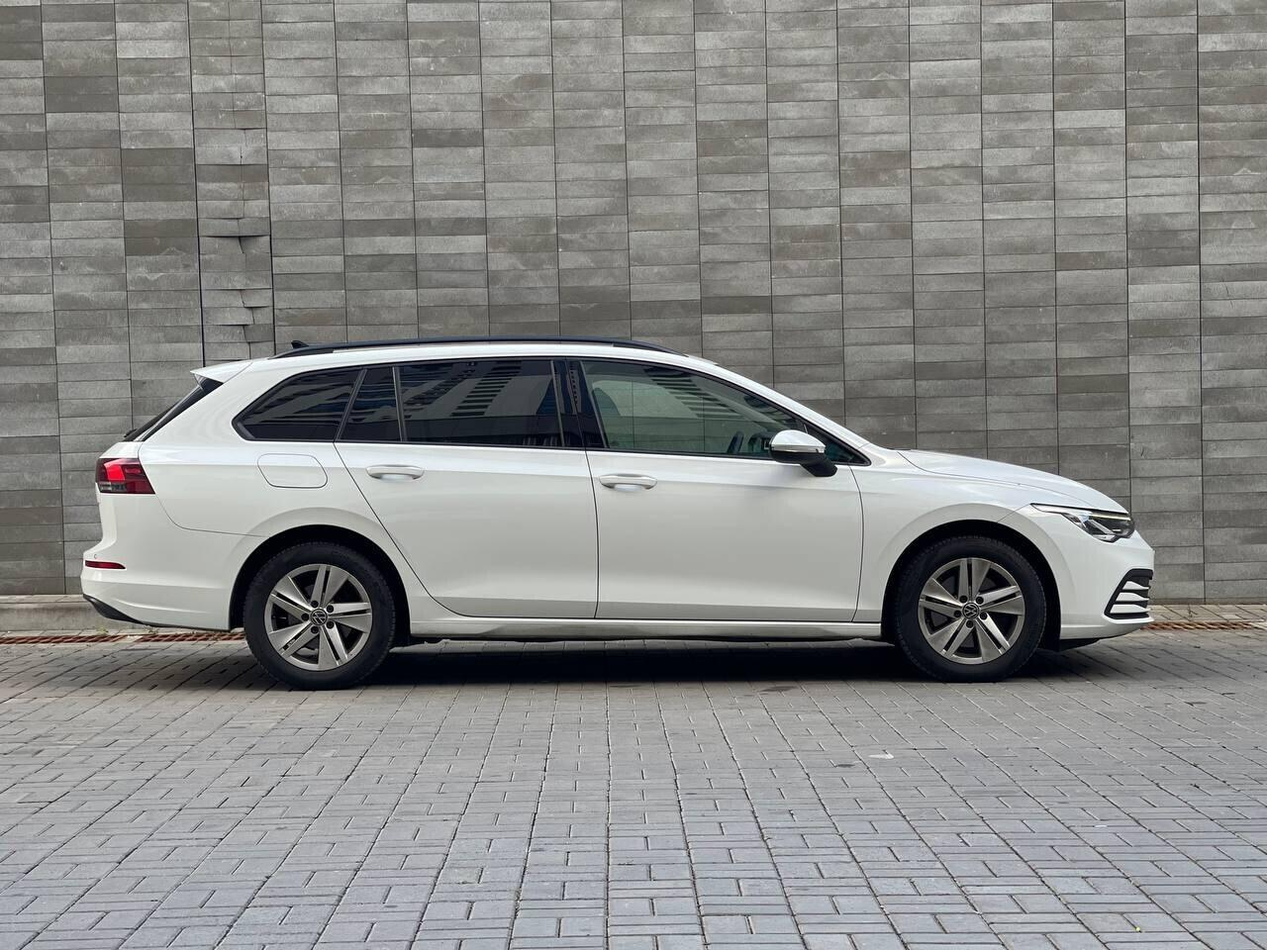Golf_2019: (83, 330, 1169, 700)
